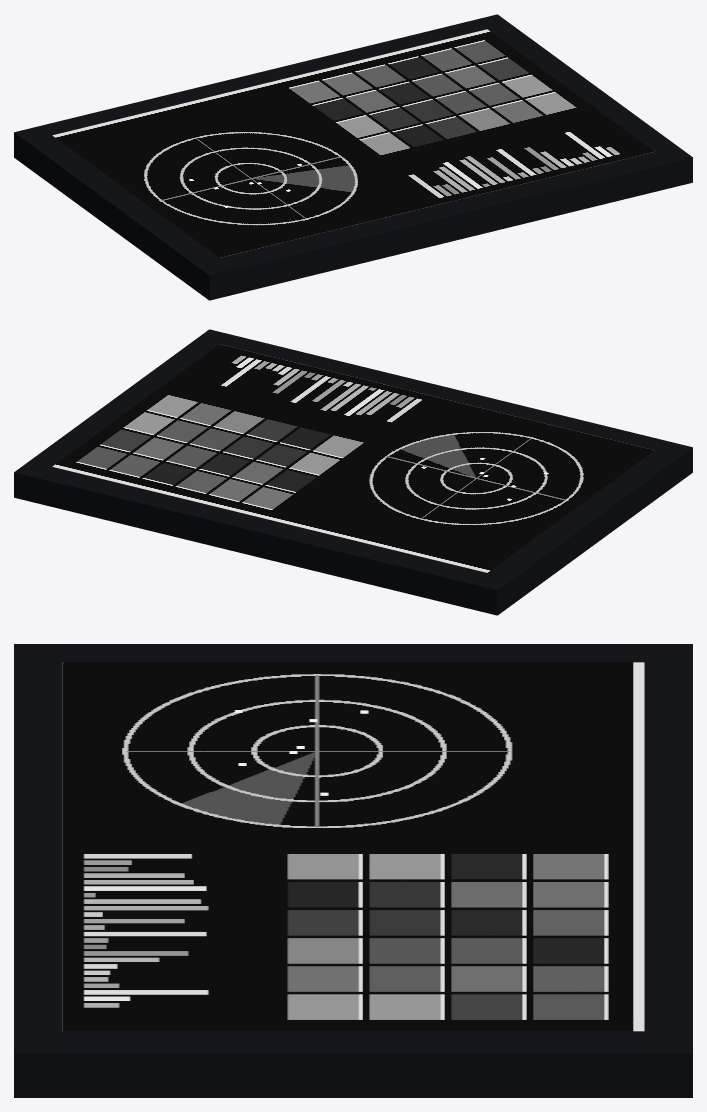
The model's file is Tech_DataPad.glb.
The picture shows the model from 3 angles, top to bottom: view 1: azimuth 30°, elevation 25°; view 2: azimuth 150°, elevation 25°; view 3: azimuth 270°, elevation 25°; orthographic projection. The views are drawn at different scales.
Visible parts, largest first — view 1: Tech_DataPad; view 2: Tech_DataPad; view 3: Tech_DataPad.
Boxes of the visible parts, x1,y1,x2,y2 form: Tech_DataPad: [14, 14, 692, 300]; Tech_DataPad: [14, 329, 692, 615]; Tech_DataPad: [14, 644, 692, 1097].
Bounding box in the file's own units: 0.2 × 0.0105 × 0.14.
Materials: 2 (1 with a texture image).
